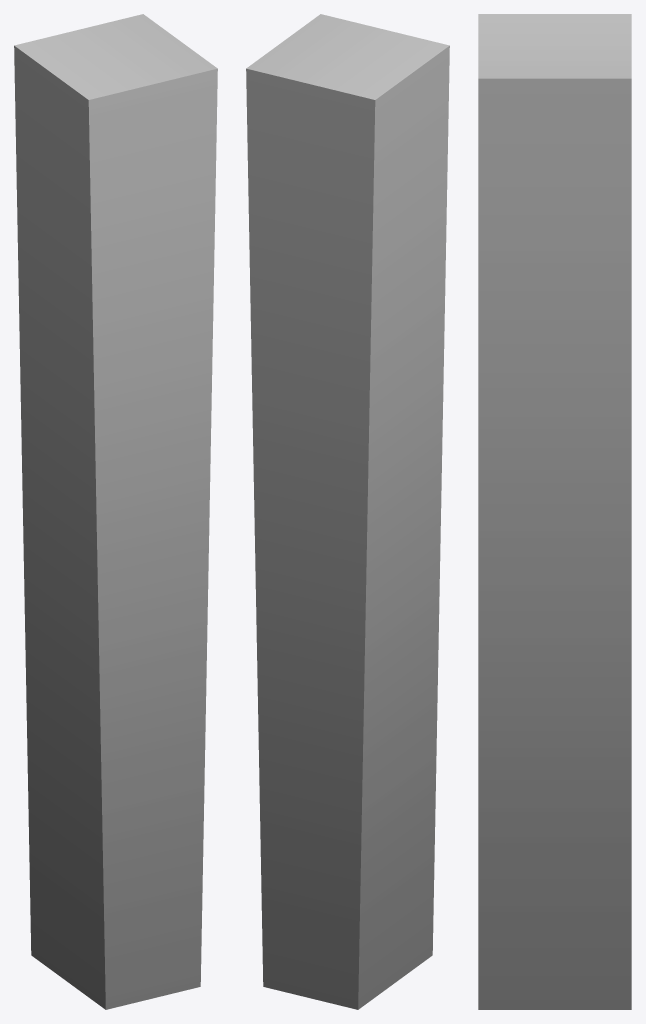
File: SM_Fence_2_Pole.FBX
3 views of the same model, side by side, from view 1: azimuth 30°, elevation 25°; view 2: azimuth 150°, elevation 25°; view 3: azimuth 270°, elevation 25° (orthographic). The views are drawn at different scales.
Visible parts, largest first — view 1: SM_Fence_2_Pole; view 2: SM_Fence_2_Pole; view 3: SM_Fence_2_Pole.
Boxes of the visible parts, x1=… form: SM_Fence_2_Pole: x1=14, y1=14, x2=217, y2=1009; SM_Fence_2_Pole: x1=246, y1=14, x2=449, y2=1009; SM_Fence_2_Pole: x1=478, y1=14, x2=631, y2=1009.
Size of what is drawn, in the model's own units: 20 by 20 by 135.
